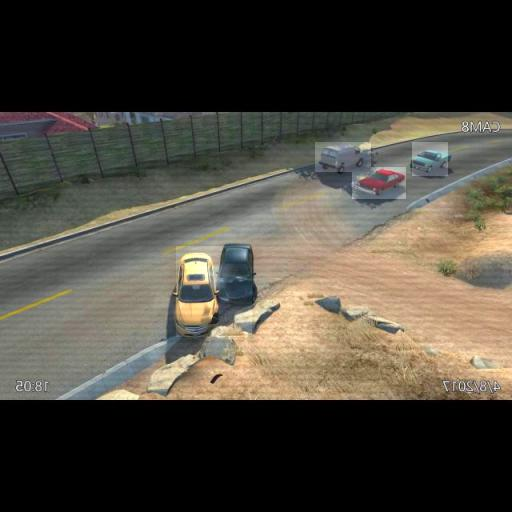小汽车: (352, 168, 406, 200), (315, 142, 371, 172), (412, 142, 448, 176)
小汽车撞小汽车: (176, 246, 252, 337)
